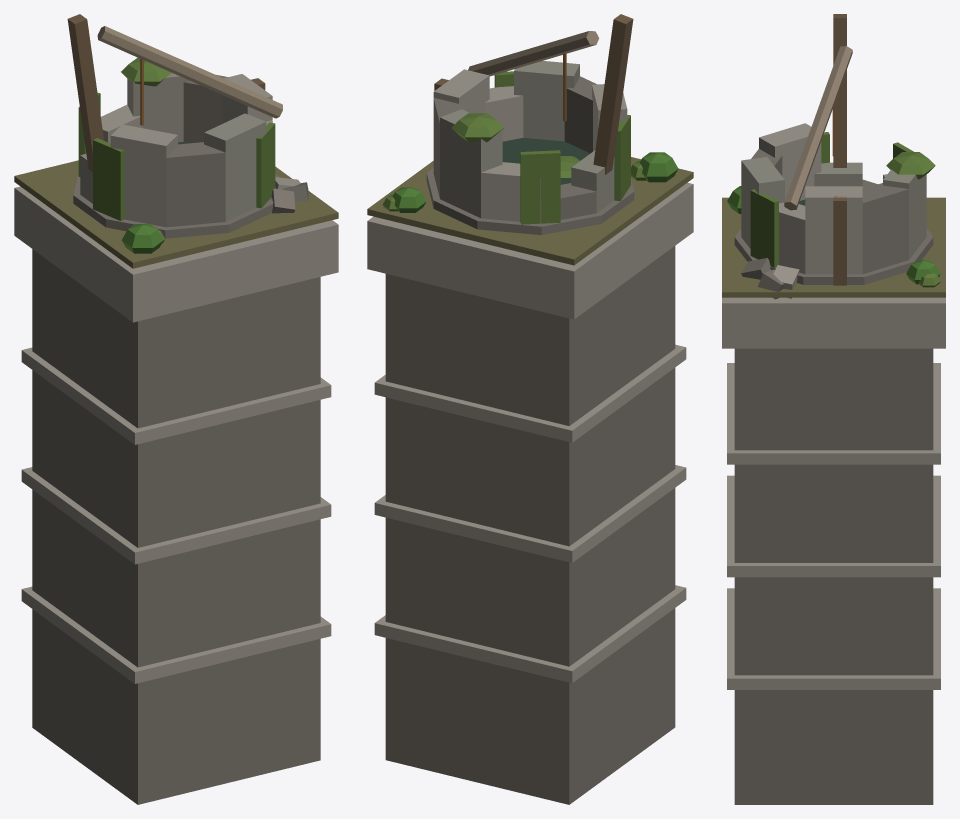
Rendered from decor_old_well.glb.
3 renders of one model, left to right at view 1: azimuth 30°, elevation 25°; view 2: azimuth 150°, elevation 25°; view 3: azimuth 270°, elevation 25°, orthographic. The views are drawn at different scales.
Visible parts, largest first — view 1: decor_old_well; view 2: decor_old_well; view 3: decor_old_well.
Boxes of the visible parts, x1,y1,x2,y2 form: decor_old_well: [14, 14, 338, 804]; decor_old_well: [367, 14, 693, 804]; decor_old_well: [722, 14, 945, 804].
Bounding box in the file's own units: 1.8 × 6.25 × 1.8.
